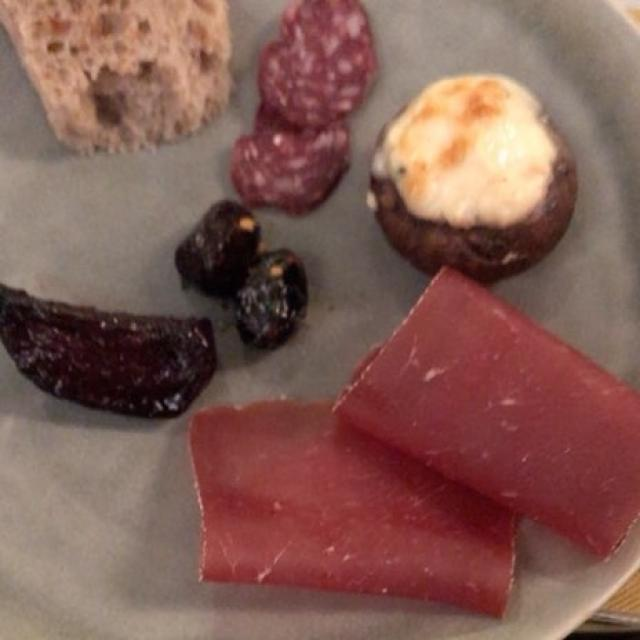bread: (15, 3, 220, 155)
cheese: (393, 80, 551, 216)
dates: (15, 200, 306, 408)
mushroom: (378, 85, 569, 275)
